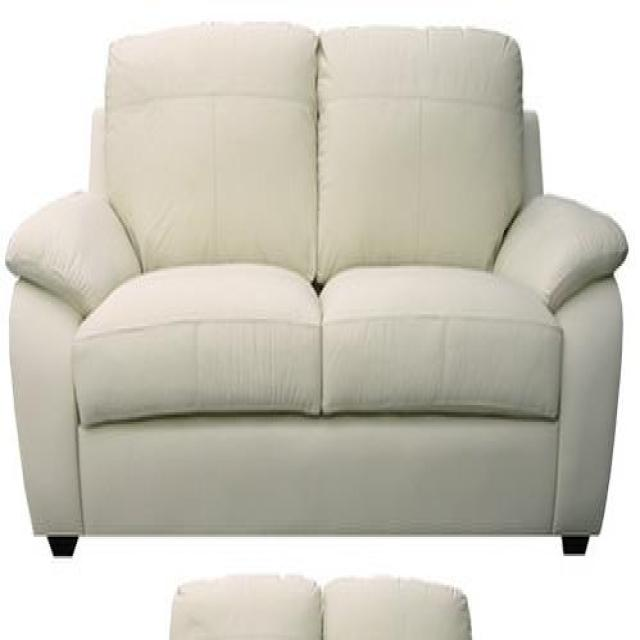sofa: (4, 20, 628, 561)
